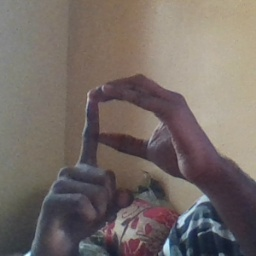P: (46, 68, 216, 235)
